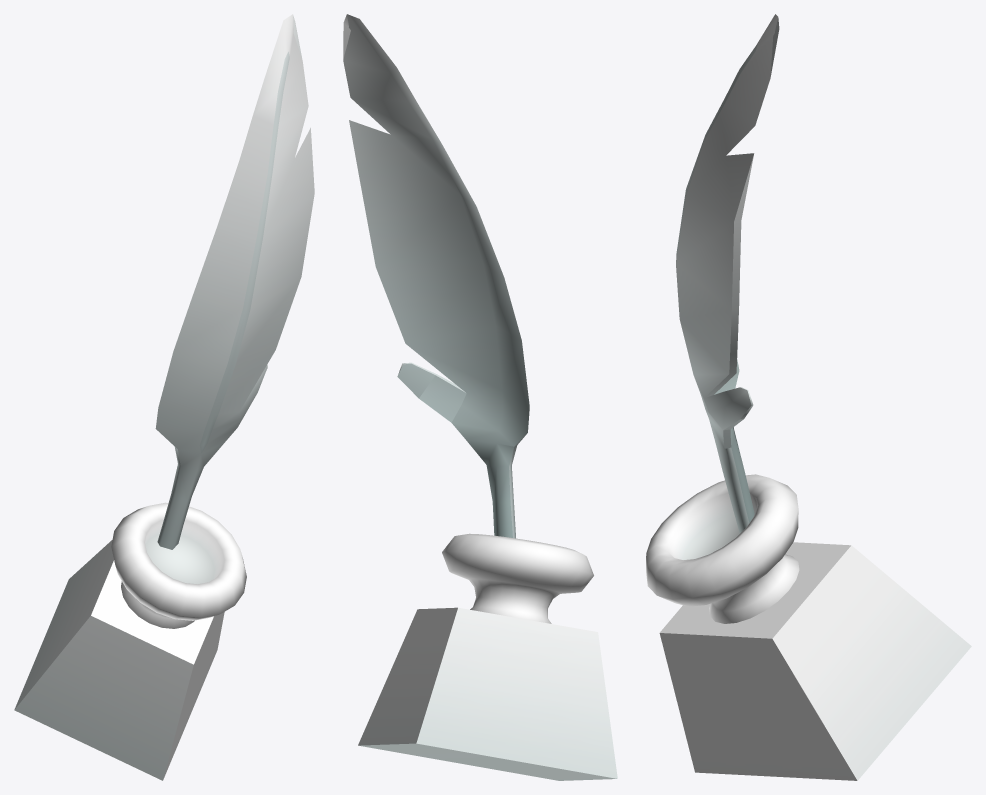
File: Emotion_Writting.fbx
3 renders of one model, left to right at view 1: azimuth 30°, elevation 25°; view 2: azimuth 150°, elevation 25°; view 3: azimuth 270°, elevation 25°, orthographic. The views are drawn at different scales.
Visible parts, largest first — view 1: Emotion_Writting; view 2: Emotion_Writting; view 3: Emotion_Writting.
Boxes of the visible parts, <box> form: Emotion_Writting: <box>14,14,314,780</box>; Emotion_Writting: <box>343,14,617,780</box>; Emotion_Writting: <box>646,14,971,780</box>.
Size of the model in its own units: 5.74 by 14.05 by 4.86.
